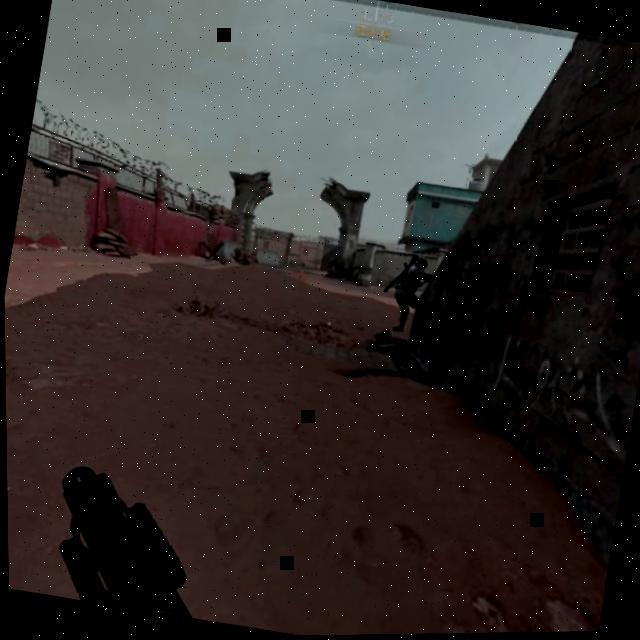MW2_body: (385, 254, 426, 335)
